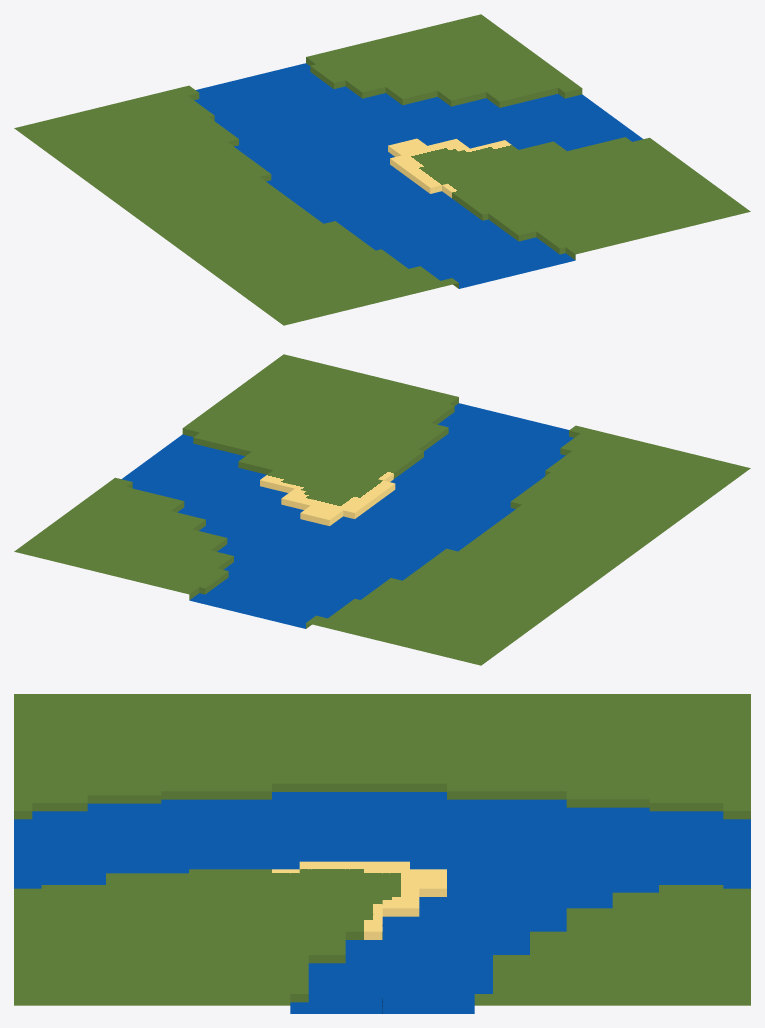
The model's file is LLLLR926(1).glb.
3 views of the same model, one above another, from view 1: azimuth 30°, elevation 25°; view 2: azimuth 150°, elevation 25°; view 3: azimuth 270°, elevation 25° (orthographic). The views are drawn at different scales.
Visible parts, largest first — view 1: model_0.038; view 2: model_0.038; view 3: model_0.038.
Boxes of the visible parts, left/top/right/bottom form: model_0.038: left=14, top=14, right=750, bottom=325; model_0.038: left=14, top=354, right=750, bottom=665; model_0.038: left=14, top=694, right=750, bottom=1013.
Size of the model in its own units: 80 by 1 by 80.
1 material, 1 textured.
